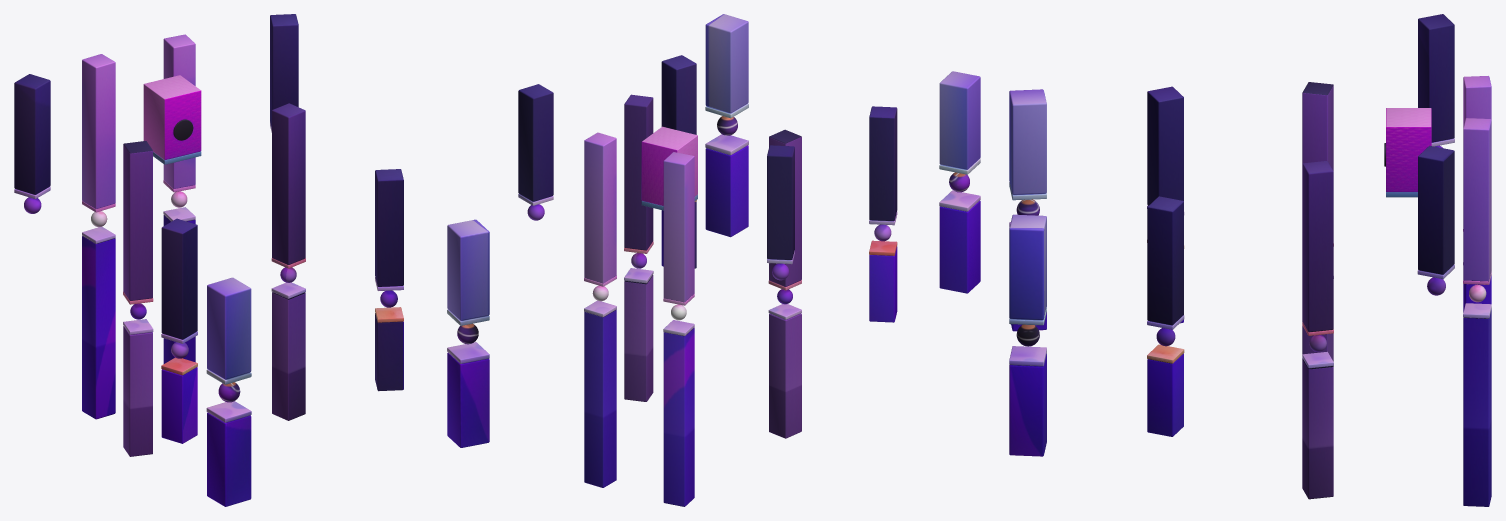
The model's file is walls.gltf.
3 renders of one model, left to right at view 1: azimuth 30°, elevation 25°; view 2: azimuth 150°, elevation 25°; view 3: azimuth 270°, elevation 25°, orthographic. The views are drawn at different scales.
Parts seen in each view (by area): view 1: MURS.1; view 2: MURS.1; view 3: MURS.1.
Boxes of the visible parts, <box> form: MURS.1: <box>14,14,489,506</box>; MURS.1: <box>518,14,980,506</box>; MURS.1: <box>1009,14,1491,506</box>.
Bounding box in the file's own units: 191 × 238 × 264.
Materials: 1 (1 with a texture image).
